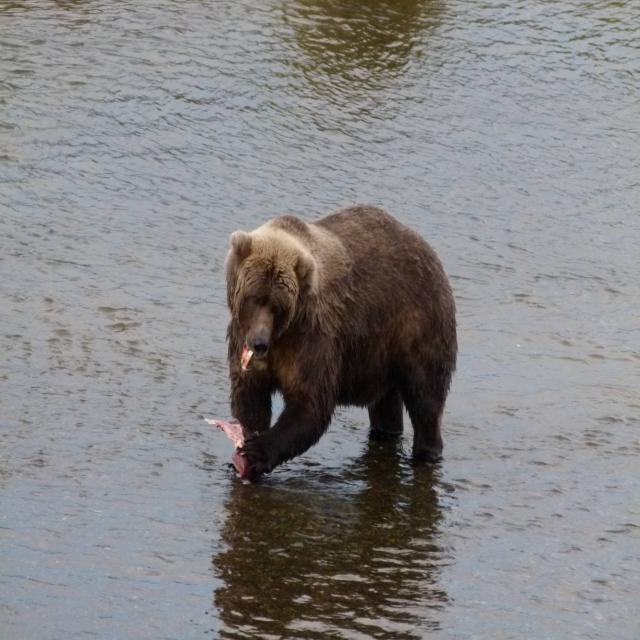bear face: (228, 205, 453, 463)
